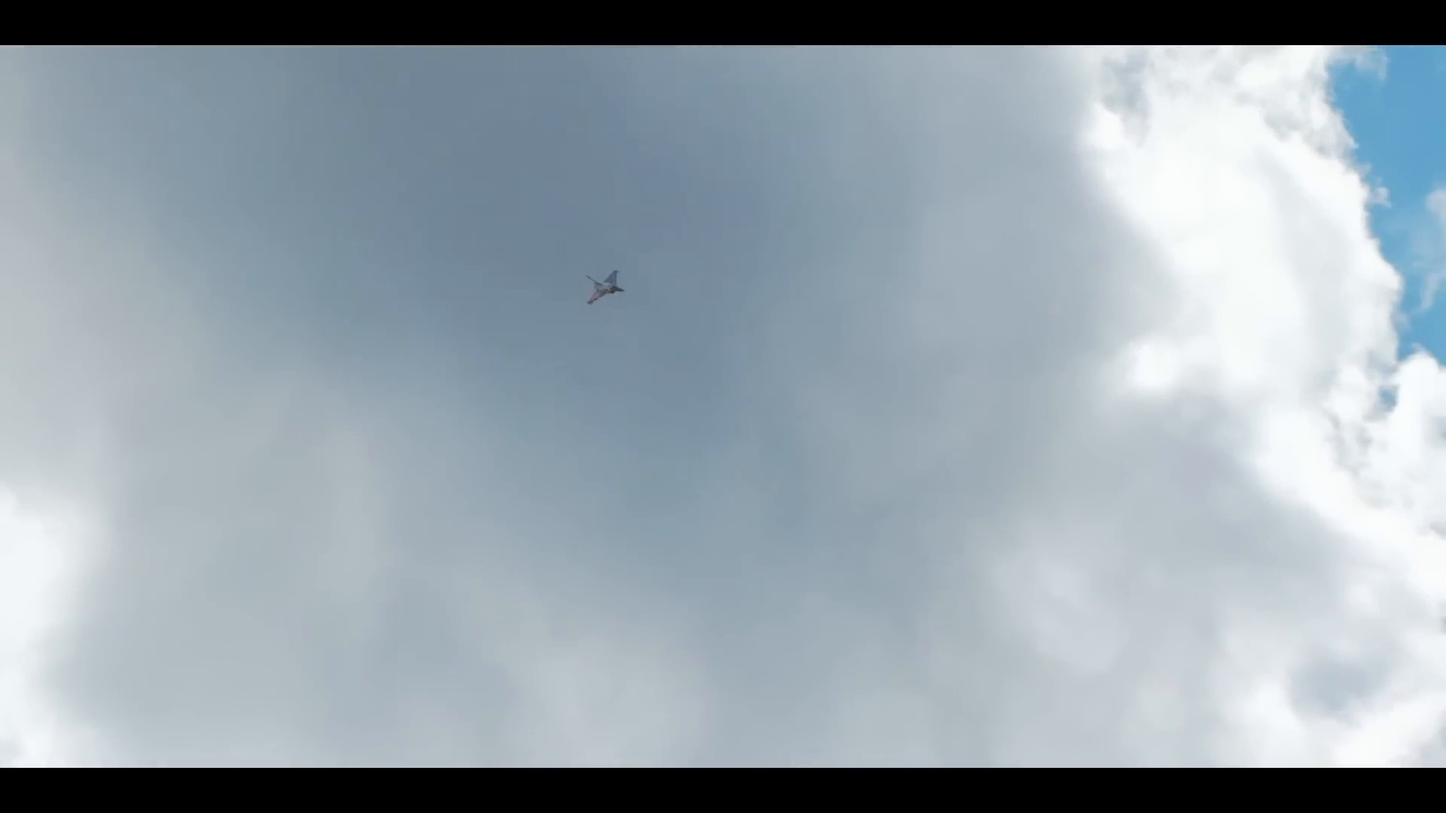Rafale: (585, 268, 628, 305)
